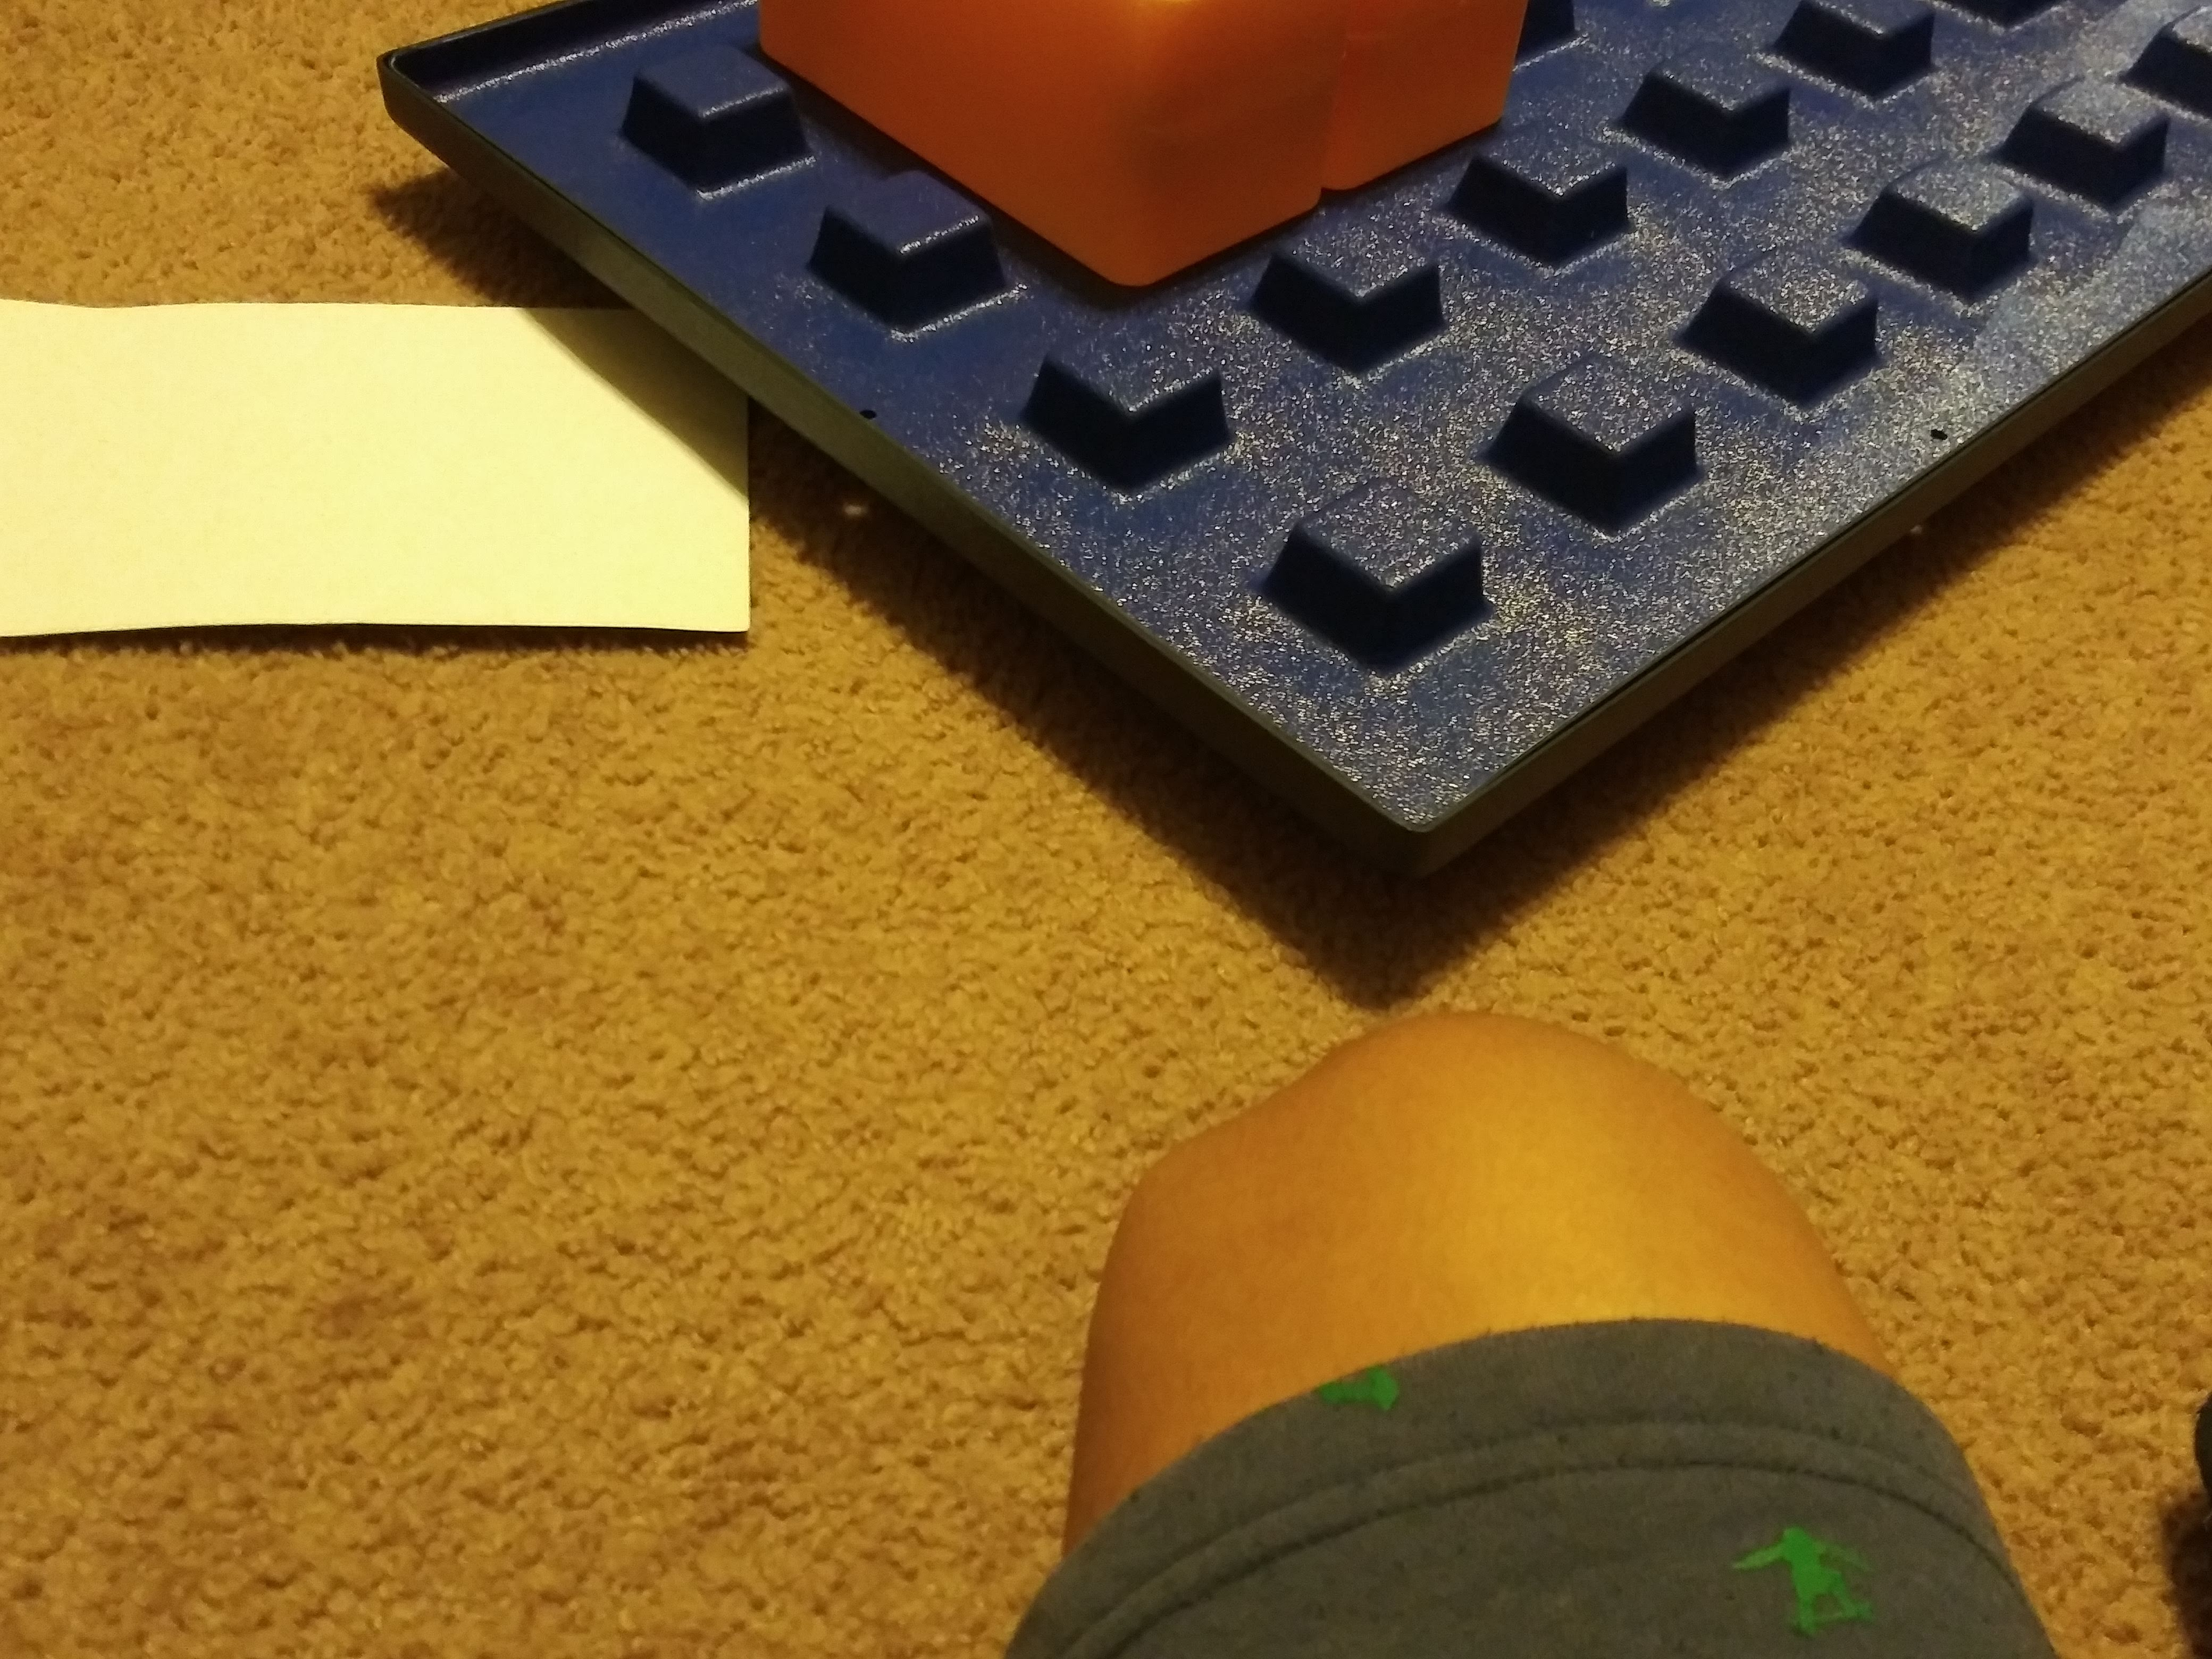blue foundation: (334, 19, 2196, 706)
